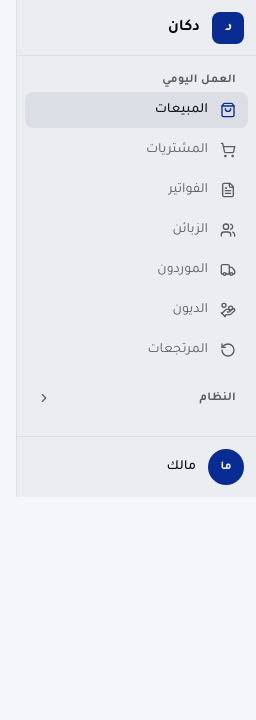
Test: AppSidebar accessible names (issue #94) › expanded: every nav link shows its Arabic label as text
Expected: the link "المبيعات" is shown, x1=25 y1=92 x2=248 y2=128
Expected: the link "المشتريات" is shown, x1=146 y1=142 x2=236 y2=158
Click the button "النظام". click: [136, 398]
box: x1=25 y1=384 x2=248 y2=412
(page scrolled)
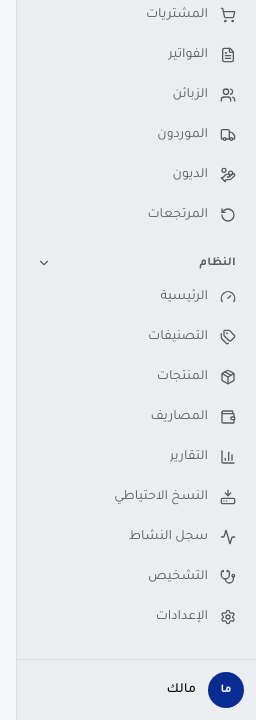
Expected: the link "الرئيسية" is shown, x1=160 y1=289 x2=236 y2=305
Expected: the link "التصنيفات" is shown, x1=148 y1=329 x2=236 y2=345
Expected: the link "المنتجات" is shown, x1=157 y1=369 x2=236 y2=385
